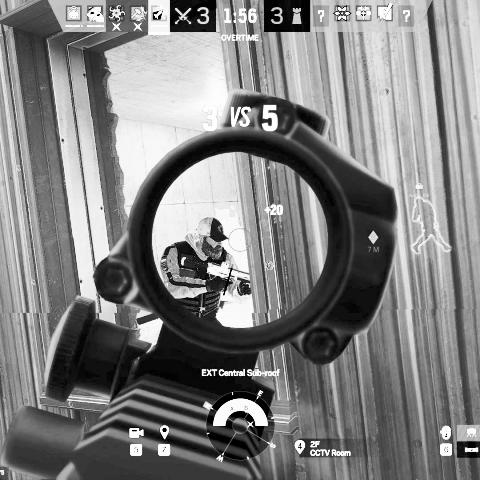Character: (156, 215, 253, 332)
Friend_label: (408, 182, 430, 198)
Head: (194, 216, 228, 262)
